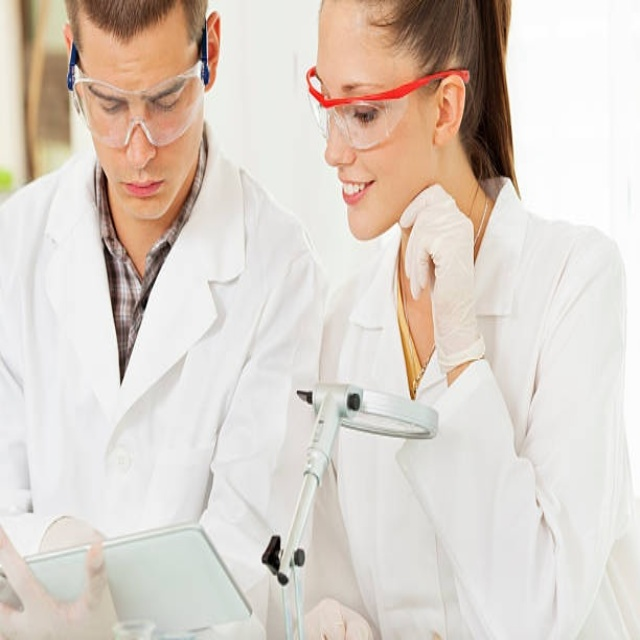Gafas: (71, 23, 209, 150), (304, 67, 462, 150)
Guantes: (398, 181, 485, 377), (3, 513, 125, 634), (301, 596, 377, 640)
Sin_mascara: (338, 163, 385, 231), (114, 168, 173, 213)
